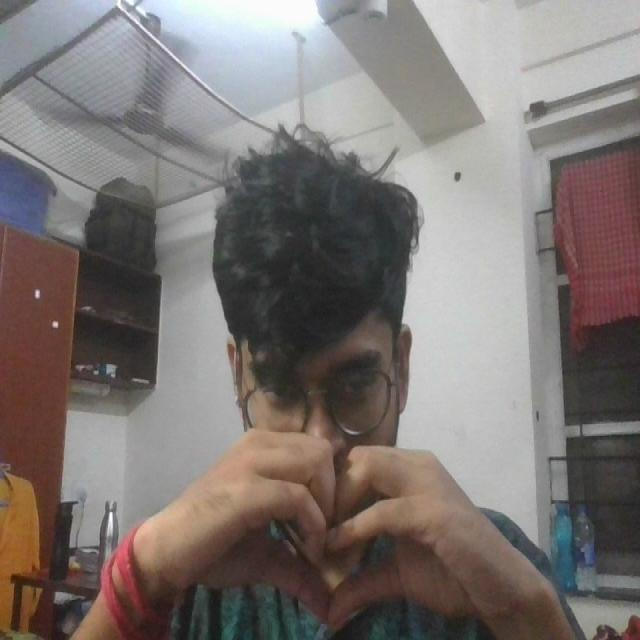IloveYou: (160, 428, 528, 640)
